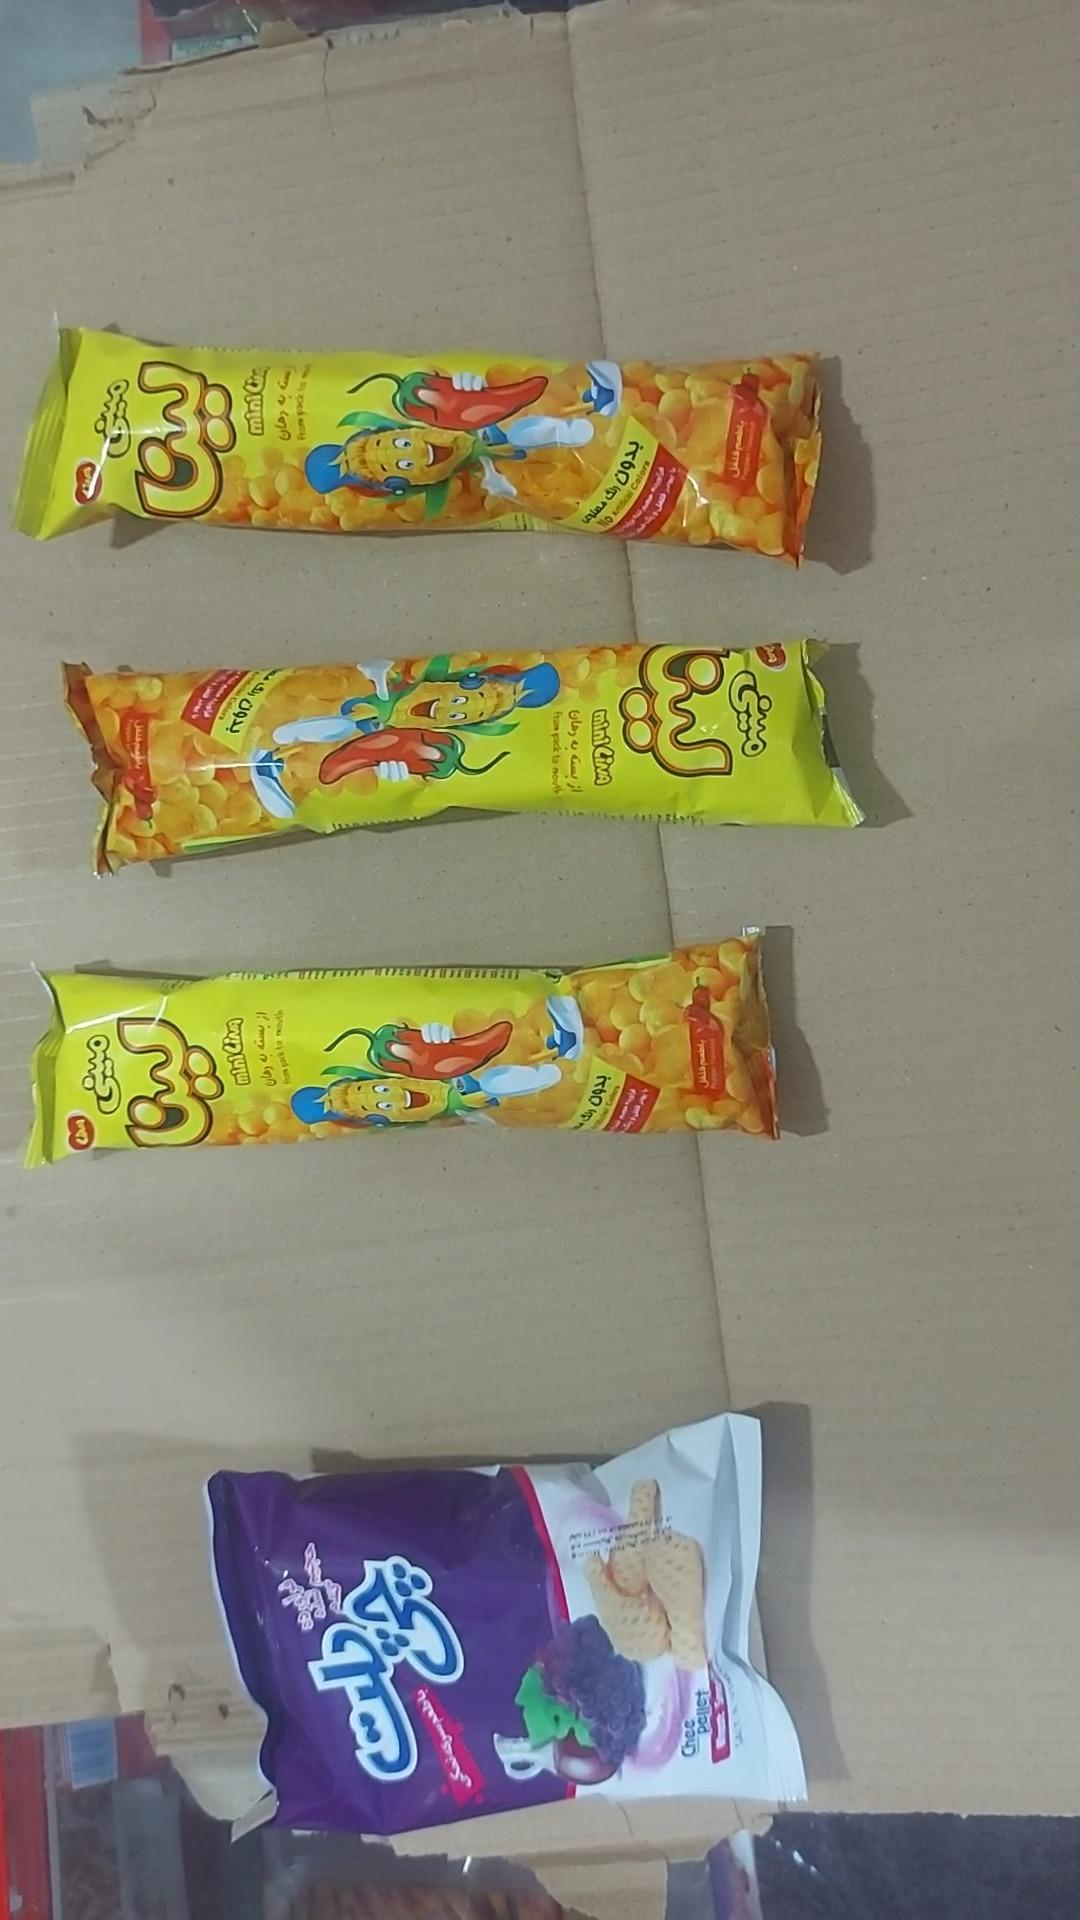Chee pellet vinegar: (204, 1414, 808, 1840)
Mini Lina: (12, 313, 822, 566), (62, 640, 869, 876), (21, 926, 781, 1170)
